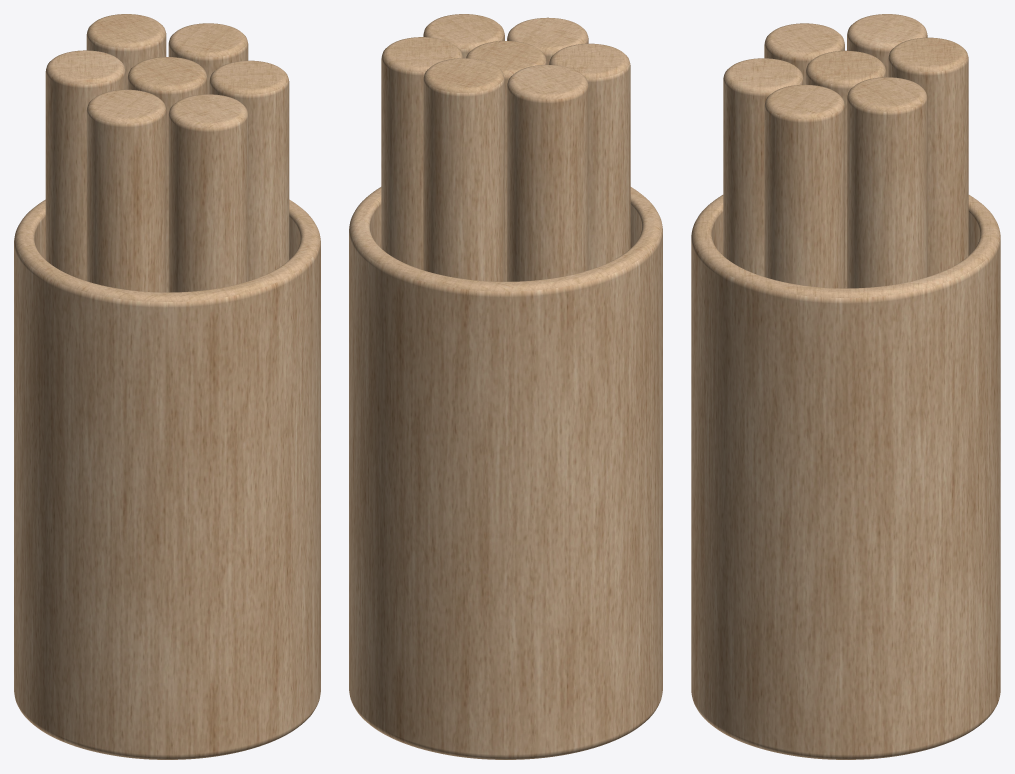
The model's file is king-white-hd.glb.
3 views of the same model, side by side, from view 1: azimuth 30°, elevation 25°; view 2: azimuth 150°, elevation 25°; view 3: azimuth 270°, elevation 25° (orthographic). The views are drawn at different scales.
Visible parts, largest first — view 1: Cylindra_Král_bílý; view 2: Cylindra_Král_bílý; view 3: Cylindra_Král_bílý.
Part boxes in pixels (box(x1,y1,x2,y2)): Cylindra_Král_bílý: box(14, 14, 320, 759); Cylindra_Král_bílý: box(349, 14, 662, 759); Cylindra_Král_bílý: box(691, 14, 1000, 759).
Size of the model in its own units: 0.5347 by 1.23 by 0.5347.
2 materials, 2 textured.
